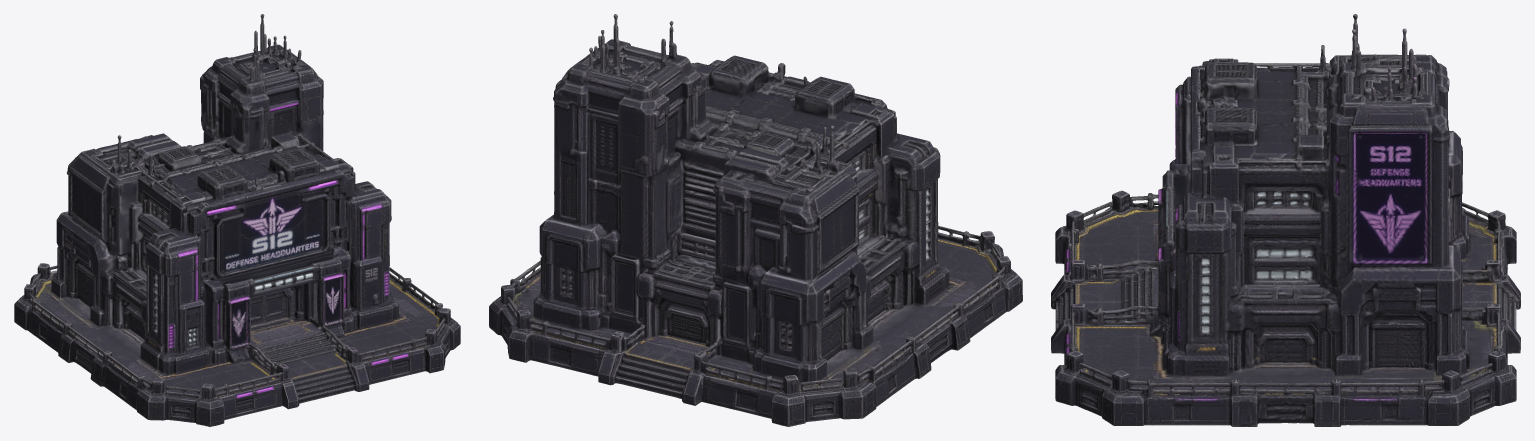
File: Meshy_AI_Neon_Citadel_Command_1011213157_texture.glb
3 renders of one model, left to right at view 1: azimuth 30°, elevation 25°; view 2: azimuth 150°, elevation 25°; view 3: azimuth 270°, elevation 25°, orthographic. The views are drawn at different scales.
Size of the model in its own units: 1.9 by 1.54 by 1.9.
1 material, 1 textured.
